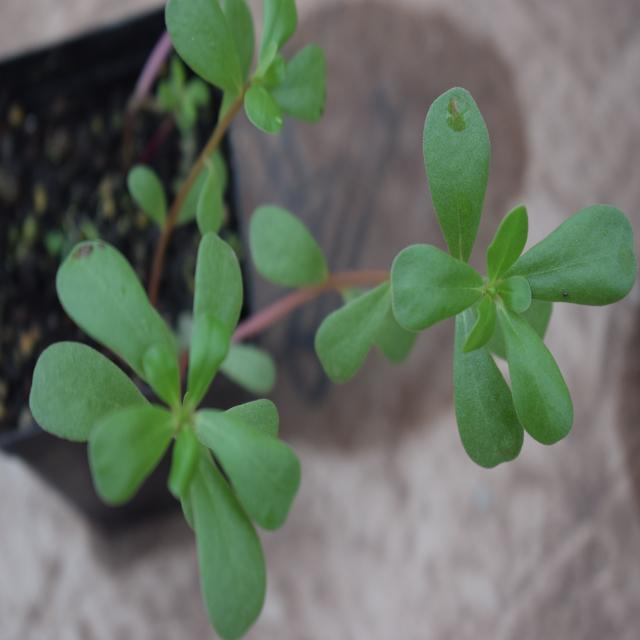purslane: (33, 105, 632, 592)
